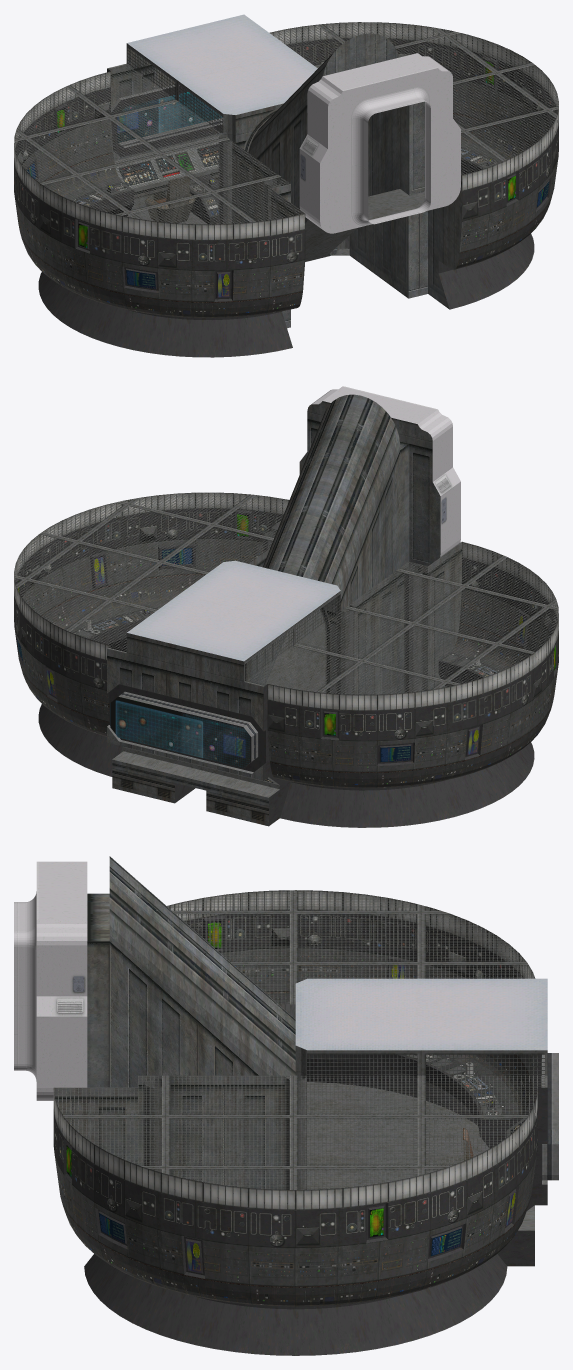
The model's file is thm_spc_corvette_dungeon_r60_lowerturret60_mesh_r60.fbx.
3 renders of one model, top to bottom at view 1: azimuth 30°, elevation 25°; view 2: azimuth 150°, elevation 25°; view 3: azimuth 270°, elevation 25°, orthographic. The views are drawn at different scales.
Parts seen in each view (by area): view 1: mesh_node; view 2: mesh_node; view 3: mesh_node.
Part boxes in pixels (x1=…): mesh_node: x1=14, y1=14, x2=558, y2=357; mesh_node: x1=14, y1=386, x2=558, y2=827; mesh_node: x1=14, y1=856, x2=558, y2=1355.
Size of the model in its own units: 12.59 by 7 by 9.67.
